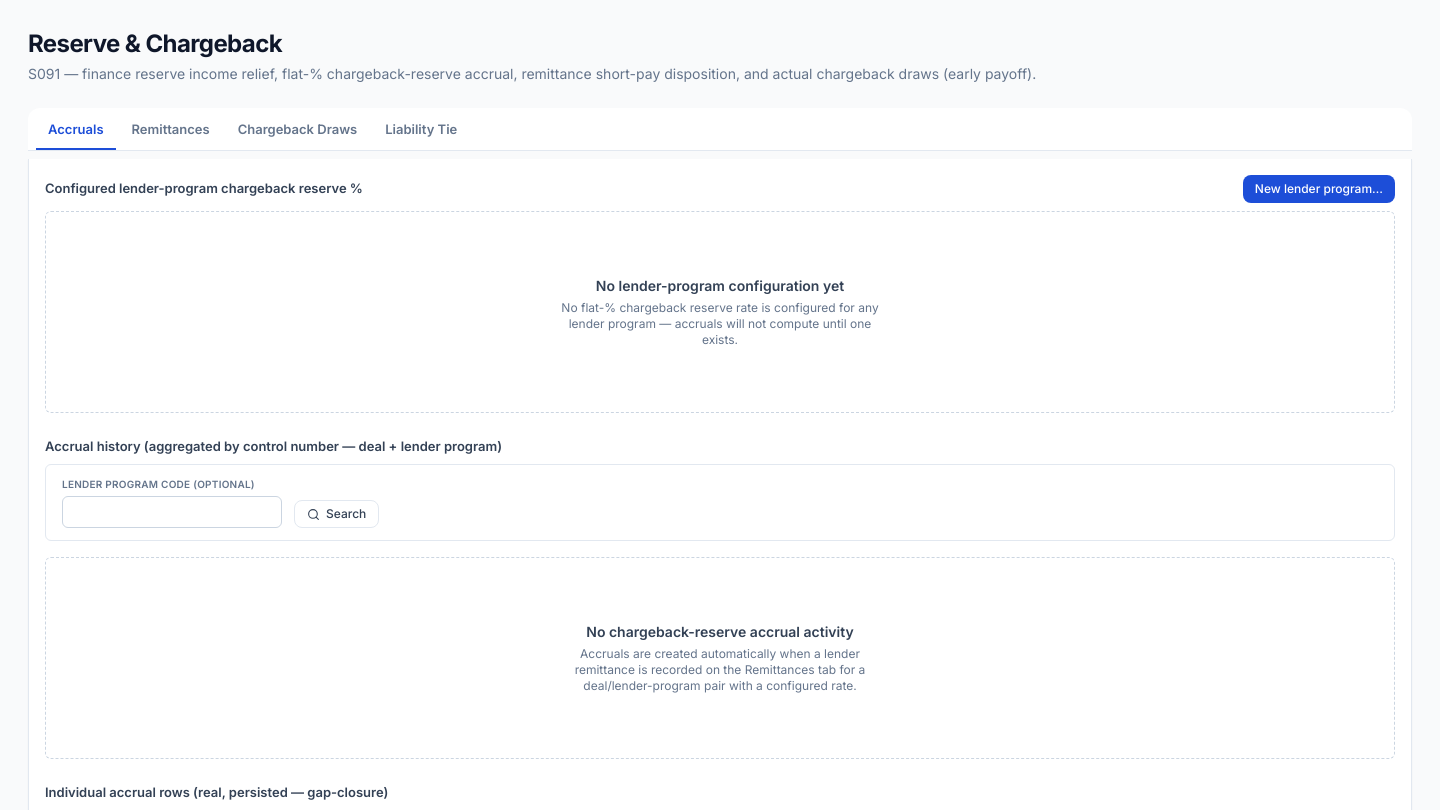
ReserveChargeback — Chargeback Draws tab (real preview + persisted history) › renders real, persisted draw history from GET /chargeback-reserve/draws
Click the button with test id "reserve-tab-draws" at [297, 131], box [226,112,369,150]
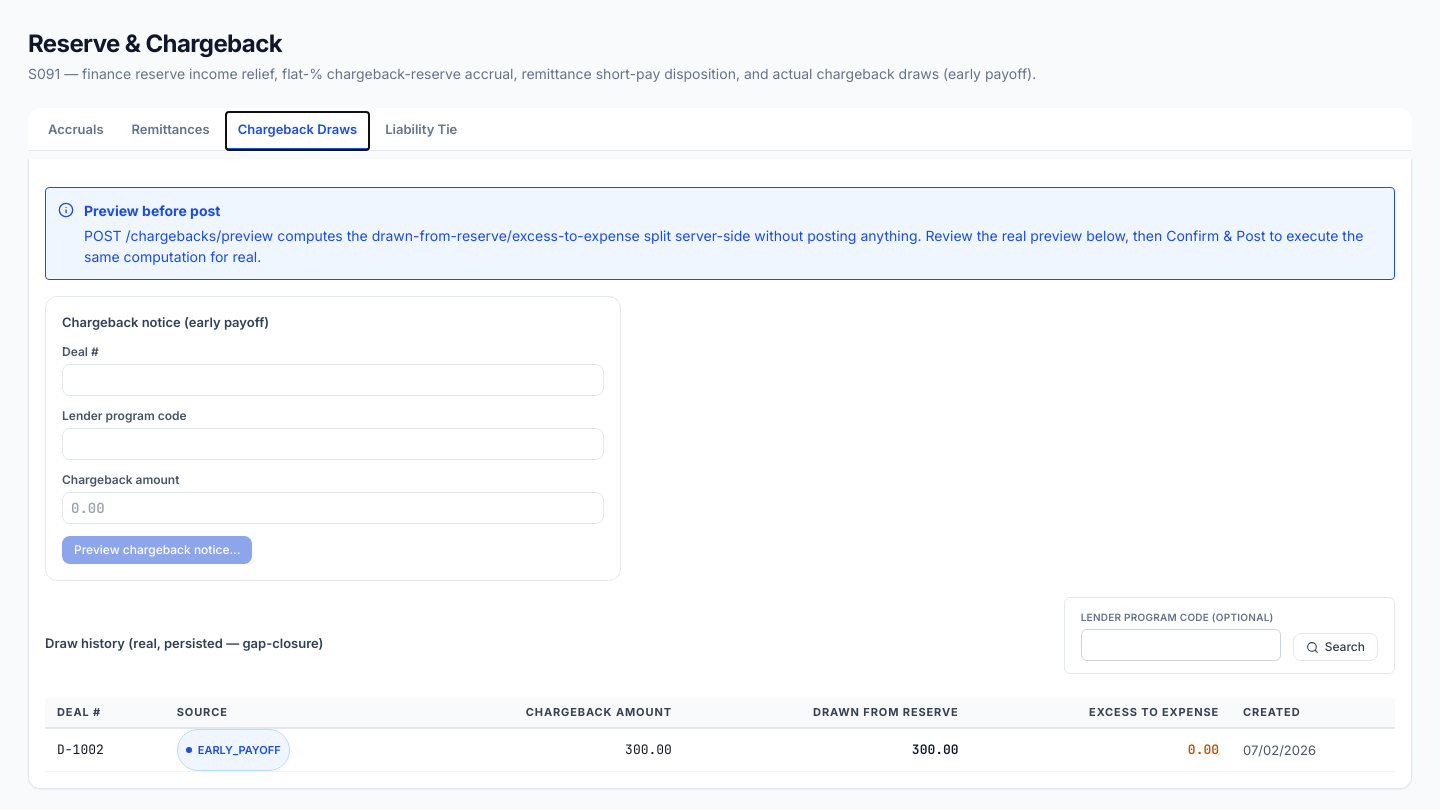
Now the row with test id "chargeback-draw-row-draw-1" is shown, box [45,728,1395,771]
